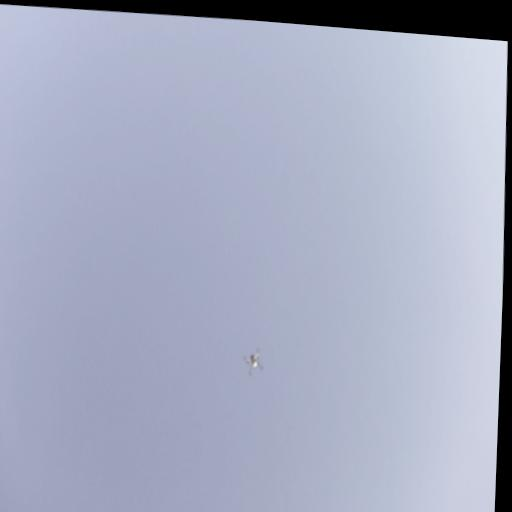drones: (241, 343, 266, 380)
